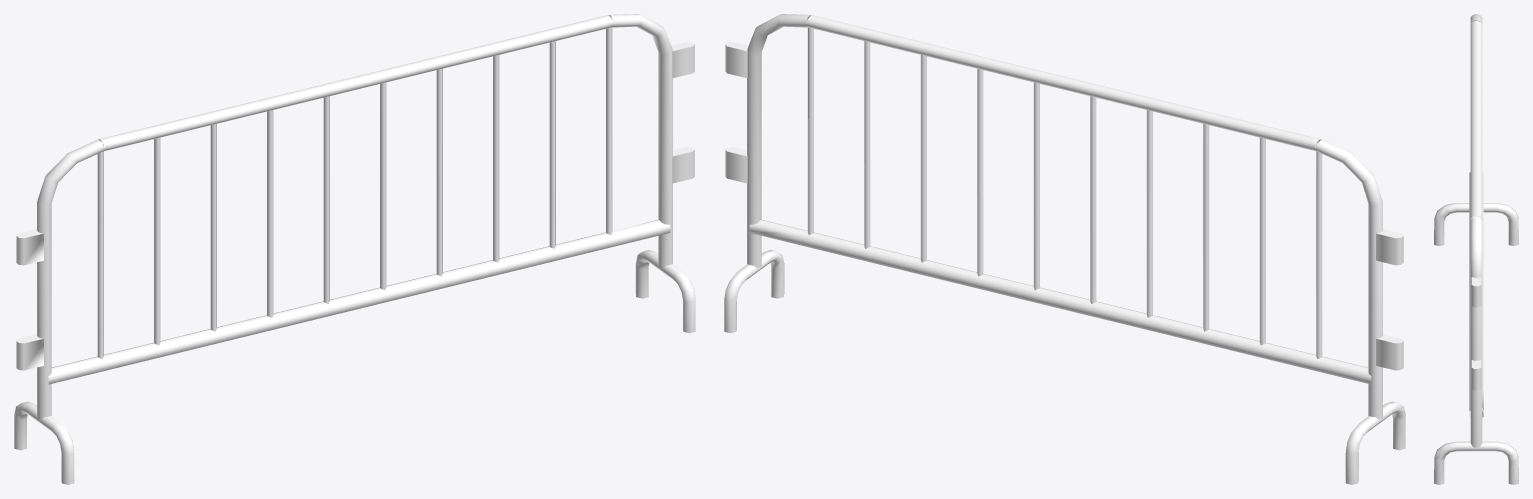
The model's file is MetalBarrier.glb.
The picture shows the model from 3 angles, left to right: view 1: azimuth 30°, elevation 25°; view 2: azimuth 150°, elevation 25°; view 3: azimuth 270°, elevation 25°; orthographic projection. The views are drawn at different scales.
Parts seen in each view (by area): view 1: MetalBarrier; view 2: MetalBarrier; view 3: MetalBarrier.
Part boxes in pixels (left/top/right/bottom): MetalBarrier: left=14, top=14, right=695, bottom=484; MetalBarrier: left=724, top=14, right=1405, bottom=484; MetalBarrier: left=1434, top=14, right=1518, bottom=484.
Bounding box in the file's own units: 2.61 × 1.15 × 0.36.
Materials: 1 (1 with a texture image).
